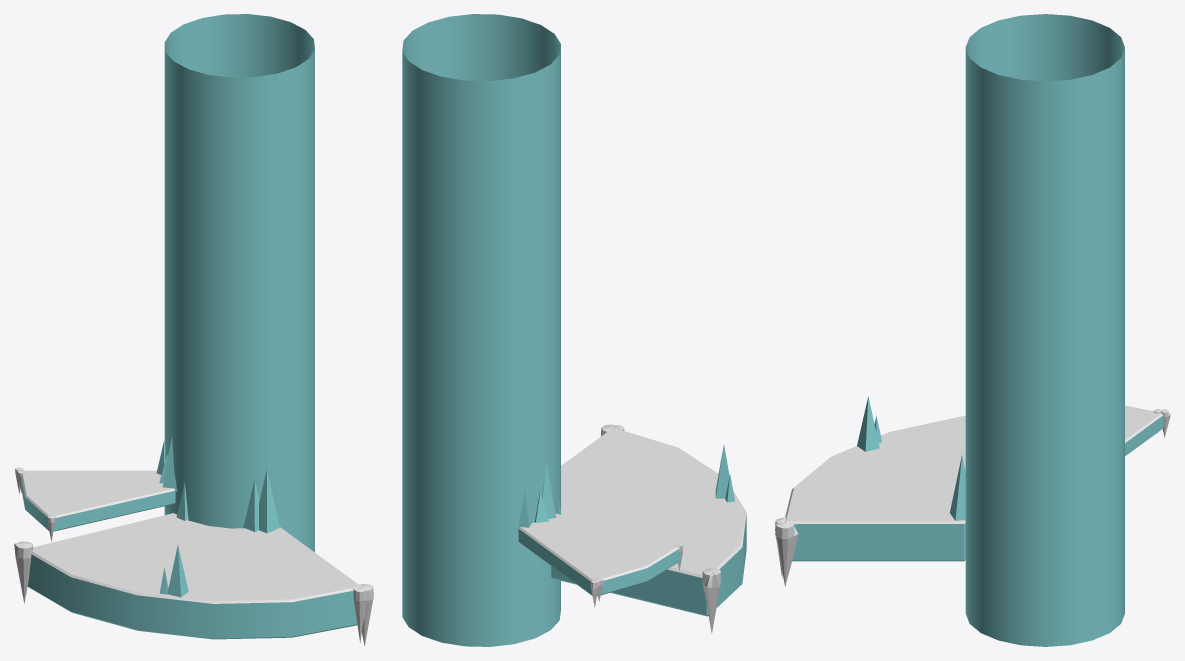
File: Ice.fbx
3 renders of one model, left to right at view 1: azimuth 30°, elevation 25°; view 2: azimuth 150°, elevation 25°; view 3: azimuth 270°, elevation 25°, orthographic. The views are drawn at different scales.
Parts seen in each view (by area): view 1: IceSpire, IceQuarter, IceStep, IceQuarterIcicles, IceStepIcicles; view 2: IceSpire, IceQuarter, IceStep, IceQuarterIcicles, IceStepIcicles; view 3: IceSpire, IceQuarter, IceQuarterIcicles, IceStep.
Boxes of the visible parts, x1,y1,x2,y2 form: IceSpire: (164, 14, 314, 552); IceQuarter: (27, 513, 361, 639); IceStep: (21, 470, 175, 531); IceQuarterIcicles: (14, 470, 373, 645); IceStepIcicles: (15, 436, 177, 542); IceSpire: (402, 14, 560, 646); IceQuarter: (551, 427, 746, 616); IceStep: (518, 513, 680, 596); IceQuarterIcicles: (556, 424, 734, 633); IceStepIcicles: (517, 463, 683, 607); IceSpire: (965, 14, 1124, 646); IceQuarter: (785, 416, 965, 561); IceQuarterIcicles: (775, 396, 965, 586); IceStep: (1125, 405, 1163, 455).
Bounding box in the file's own units: 487 × 861 × 546.
